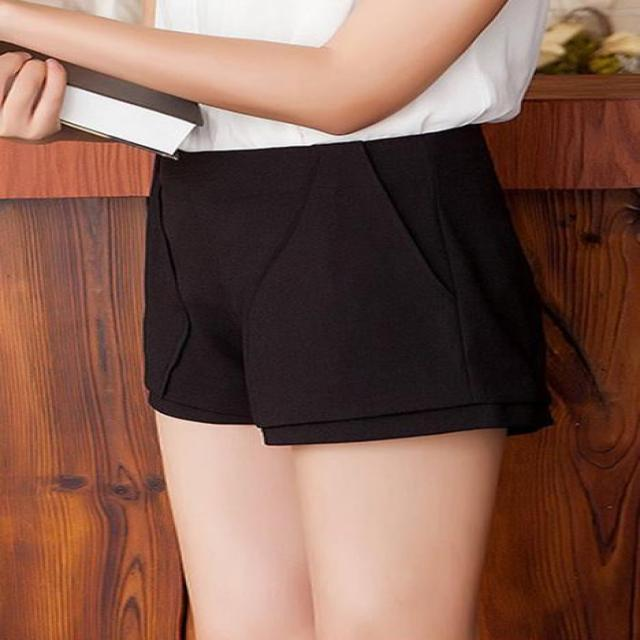shorts: (110, 136, 604, 479)
